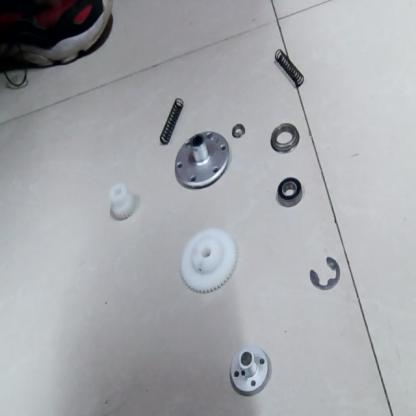FOD: (179, 227, 238, 298), (175, 131, 229, 192), (228, 349, 272, 393), (273, 46, 307, 96), (158, 92, 186, 152), (268, 118, 303, 158), (308, 254, 343, 291), (108, 183, 134, 226), (275, 176, 305, 208), (233, 122, 250, 140)
